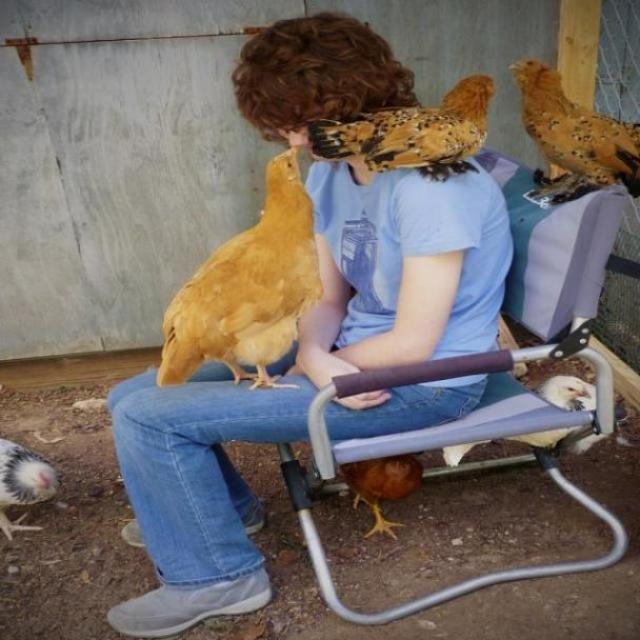Chicken: (153, 142, 339, 393), (505, 56, 640, 220), (317, 68, 518, 178), (330, 458, 435, 541), (0, 432, 72, 544), (548, 374, 591, 409)
